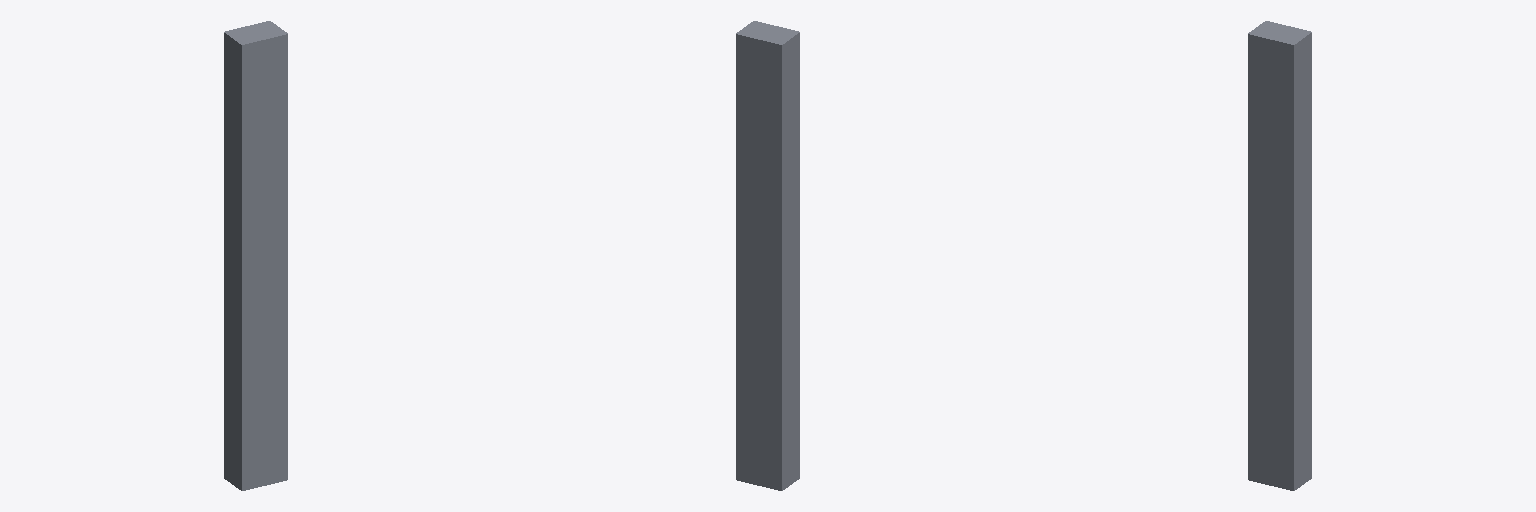
URDF robot description (artmanip_knife_000):
<?xml version='1.0' encoding='utf-8'?>
<robot name="artmanip_knife_000"><link name="link_0"><inertial><mass value="0.02235355839769387" /><inertia ixx="3.4103913357824284e-05" iyy="3.431943583163175e-05" izz="5.922549430663919e-07" ixy="0" ixz="0" iyz="0" /></inertial><visual><geometry><box size="0.014724757302683333 0.010055850723653741 0.13493254234332971" /></geometry><material name="link_0_color"><color rgba=".58 .60 .64 1" /></material></visual><collision><geometry><box size="0.014724757302683333 0.010055850723653741 0.13493254234332971" /></geometry></collision></link><link name="link_1"><inertial><mass value="0.006" /><inertia ixx="4.545e-07" iyy="5e-07" izz="5.45e-08" ixy="0" ixz="0" iyz="0" /></inertial><visual><geometry><mesh filename="slider-shoulder.obj" /></geometry><material name="link_1_color"><color rgba=".12 .13 .15 1" /></material></visual><collision><geometry><mesh filename="slider-shoulder.obj" /></geometry></collision></link><joint name="slider" type="prismatic"><parent link="link_0" /><child link="link_1" /><origin xyz="-0.00011932121995808845 0.0068841282230887235 0.007466178813865983" /><axis xyz="0 0 1" /><limit lower="-0.03267458688196273" upper="0.017325413118037272" effort="100" velocity="1" /><dynamics damping="1000" friction="0.001" /></joint></robot>

--- What the picture shows (computed from the rendered views, not written in the file) ---
The picture shows the robot from 3 angles, left to right: view 1: azimuth 30°, elevation 25°; view 2: azimuth 150°, elevation 25°; view 3: azimuth 330°, elevation 25°; orthographic projection.
Robot: artmanip_knife_000 — 2 links, 1 joints (1 prismatic); root link link_0; default pose: every joint at zero.
Visible links, largest first — view 1: link_0; view 2: link_0; view 3: link_0.
Link boxes in pixels (<box>): link_0: <box>224,21,287,490</box>; link_0: <box>736,21,799,490</box>; link_0: <box>1248,21,1311,490</box>.
Size in the robot's own frame: 0.0147 by 0.0101 by 0.1349 metres.
0 mesh visuals loaded from 1 distinct referenced files (none loaded); not drawn: 1 (reference not matched to a file when rendering).
